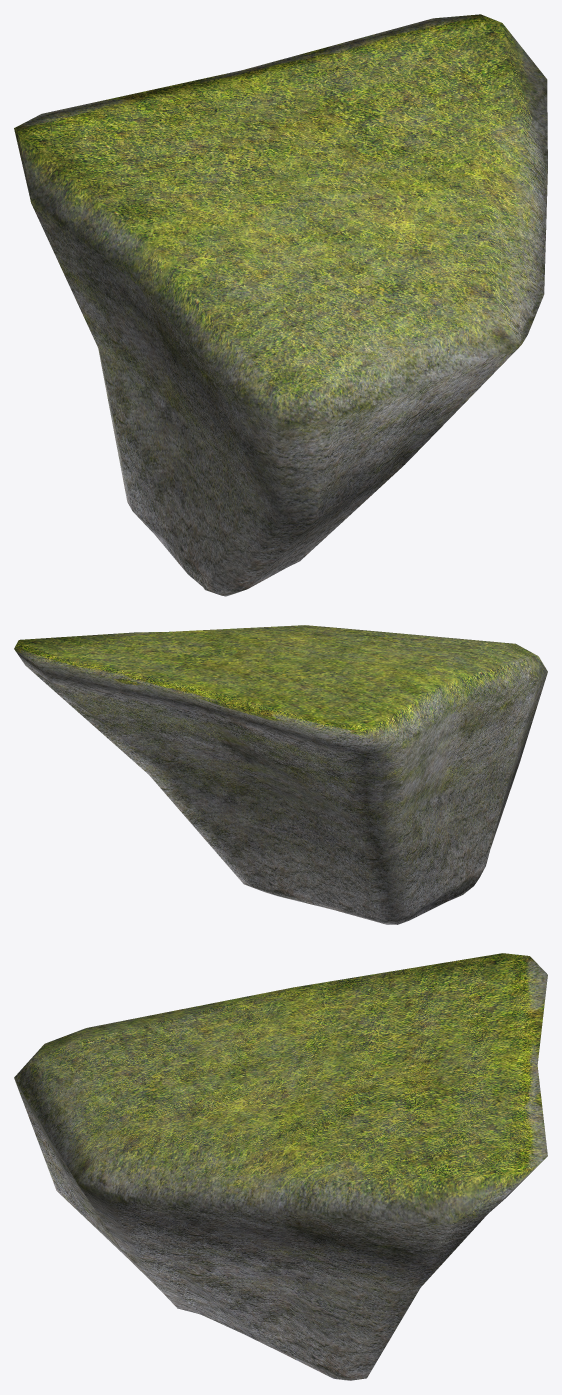
File: Rock 2.glb
3 views of the same model, one above another, from view 1: azimuth 30°, elevation 25°; view 2: azimuth 150°, elevation 25°; view 3: azimuth 270°, elevation 25° (orthographic). The views are drawn at different scales.
Parts seen in each view (by area): view 1: LowPoly; view 2: LowPoly; view 3: LowPoly.
Boxes of the visible parts, <box> form: LowPoly: <box>14,14,547,596</box>; LowPoly: <box>14,625,547,924</box>; LowPoly: <box>14,953,547,1380</box>.
Bounding box in the file's own units: 15.62 × 10.06 × 14.79.
Materials: 1 (1 with a texture image).
